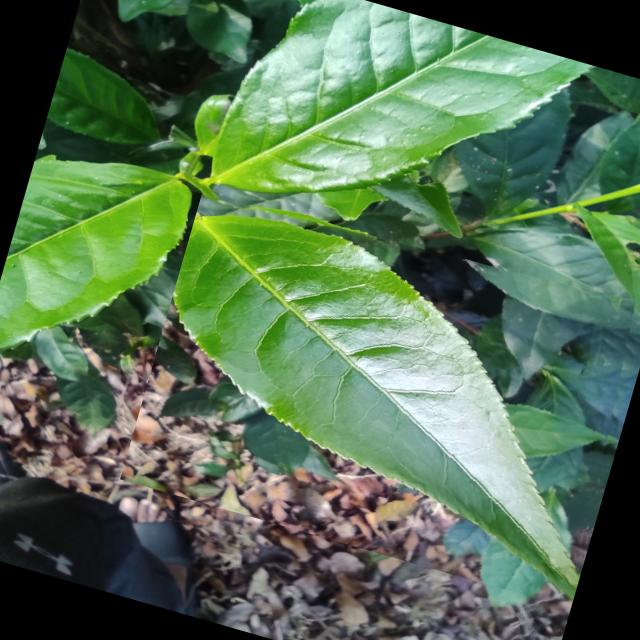Category D(7+ days, Not for Tea): (118, 178, 640, 608)
